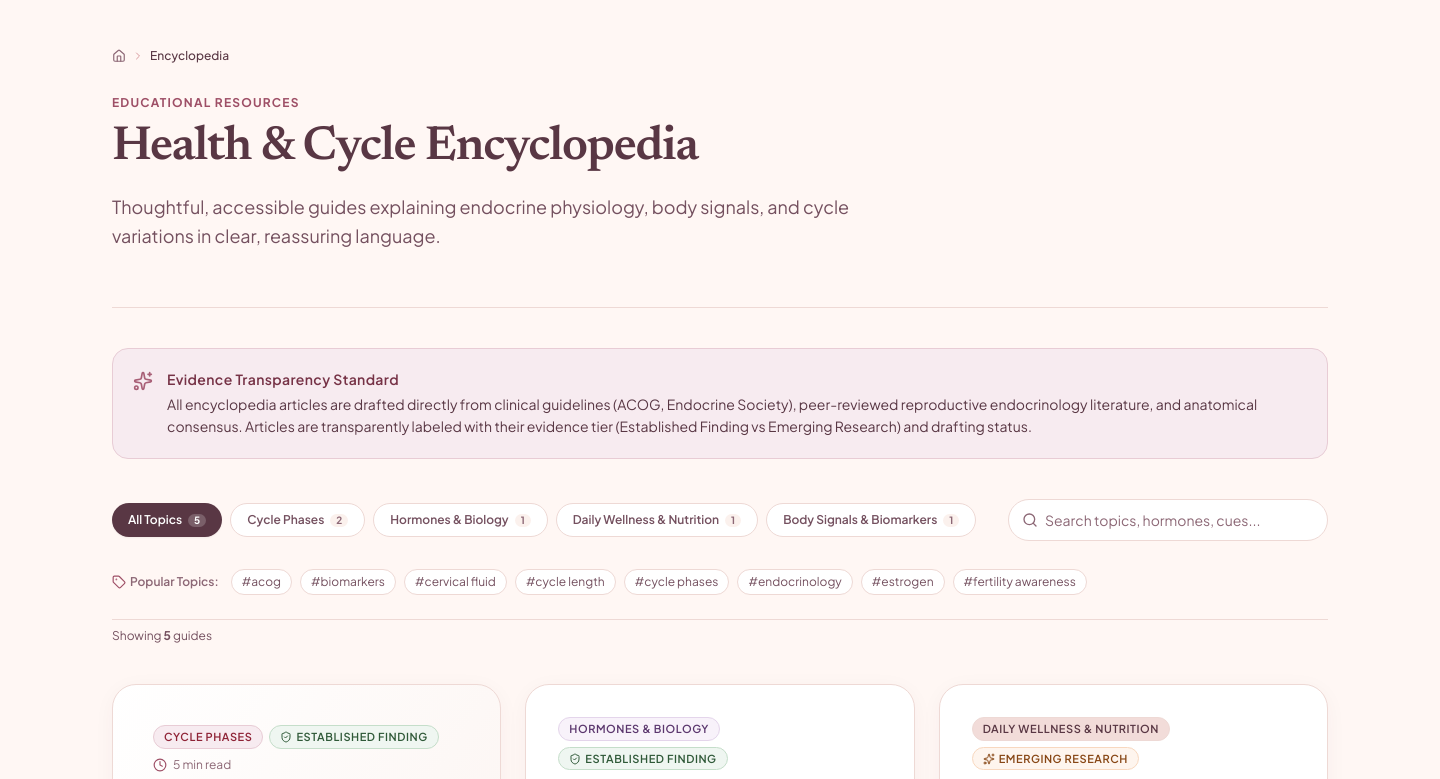
Encyclopedia Page Discovery & Functionality › resets all filters when clicking Reset all filters
This screenshot has width=1440, height=779.
Click the tab "Hormones & Biology 1".
click(461, 520)  # box [373, 503, 548, 537]
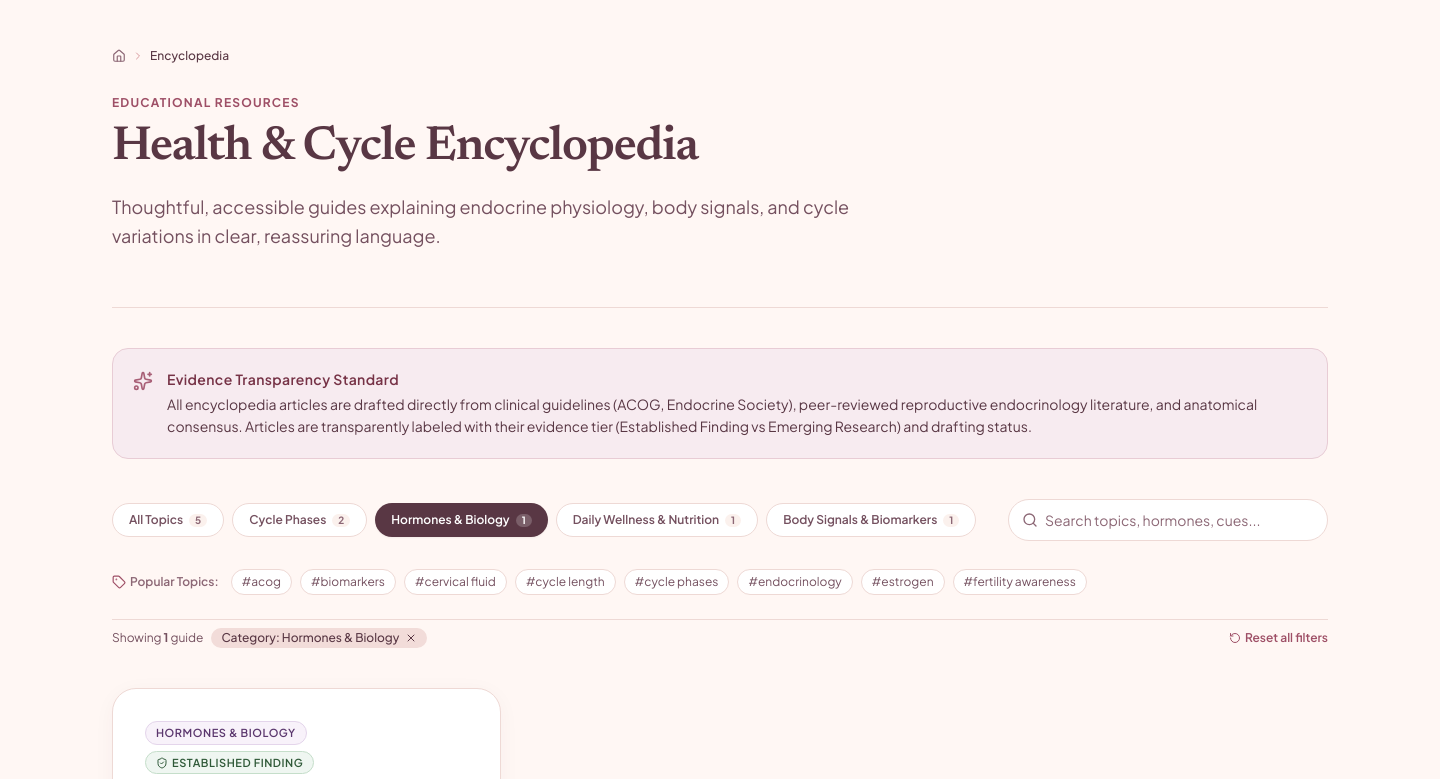
Type "progesterone" into the field with placeholder "Search topics, hormones, cues...".
click(1168, 520); type("progesterone")  # box [1008, 499, 1328, 541]
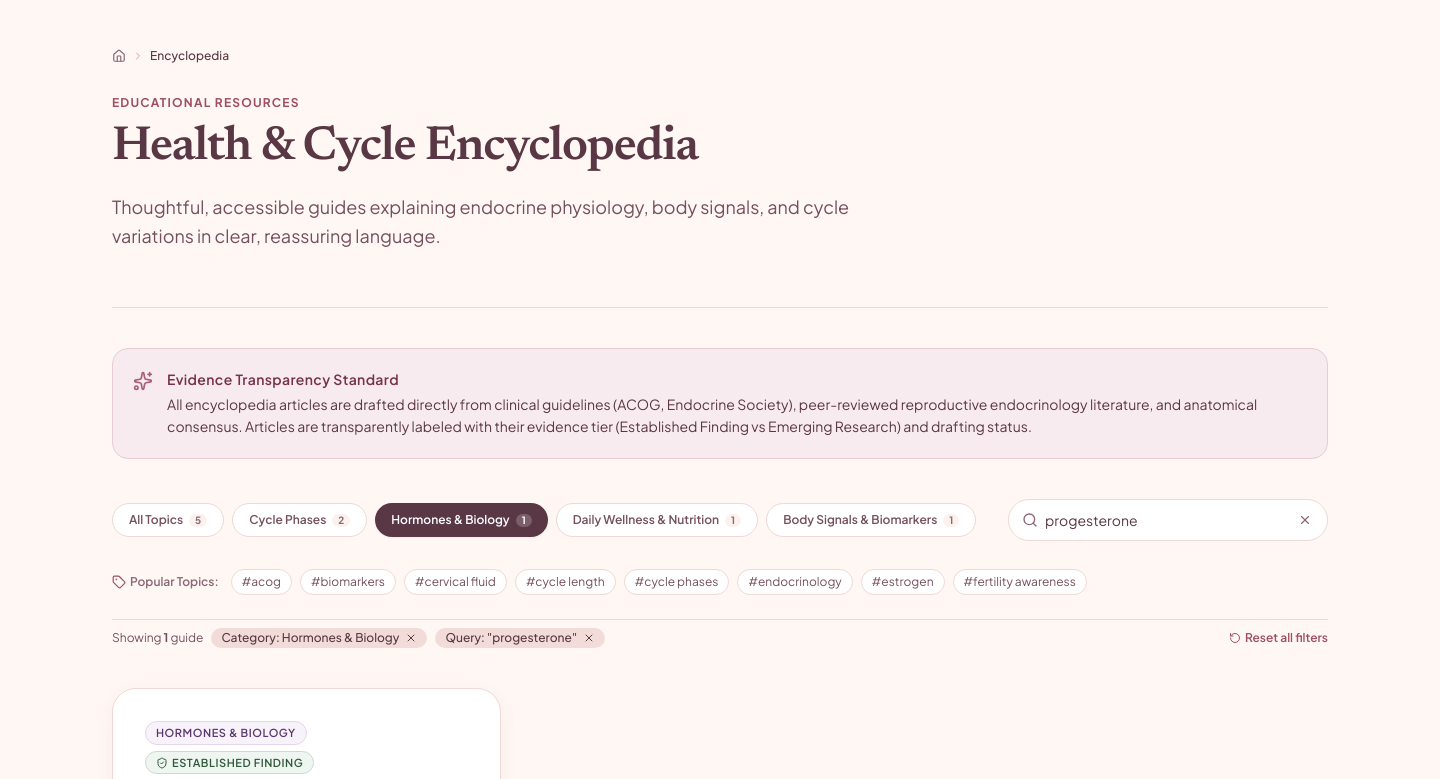
Click the button "Reset all filters".
click(1278, 638)  # box [1229, 630, 1328, 646]
(page scrolled)
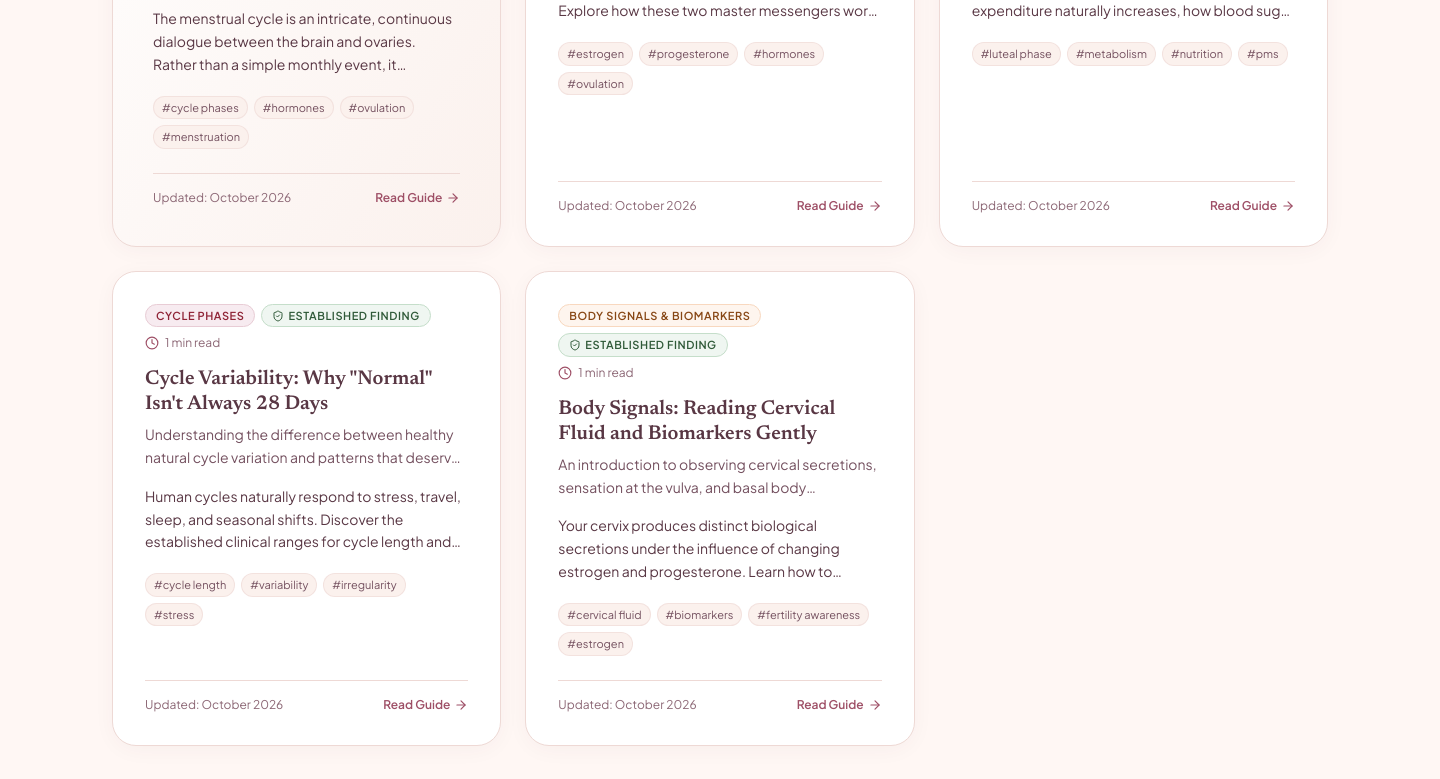
Expected: the link "Body Signals: Reading Cervical Fluid and Biomarkers Gently" is shown, [558, 399, 835, 444]
